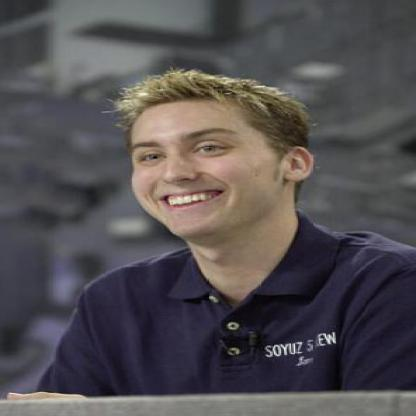face: (111, 81, 291, 240)
